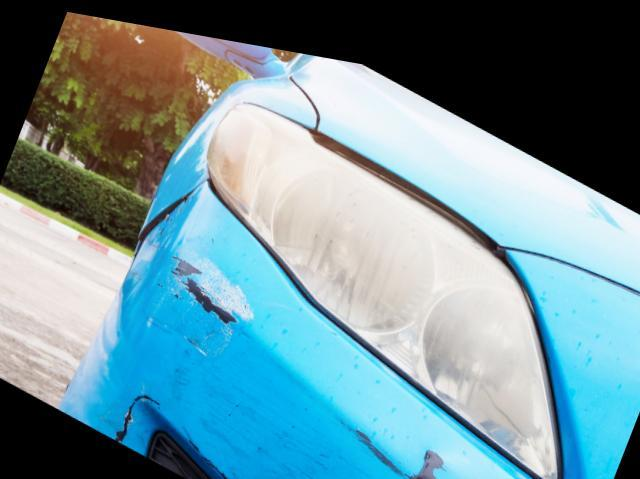scratch: (148, 246, 461, 479)
